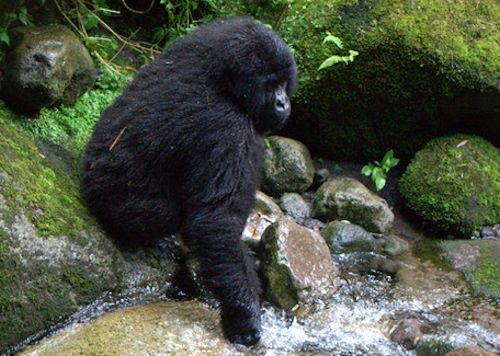Goriila: (88, 7, 320, 337)
